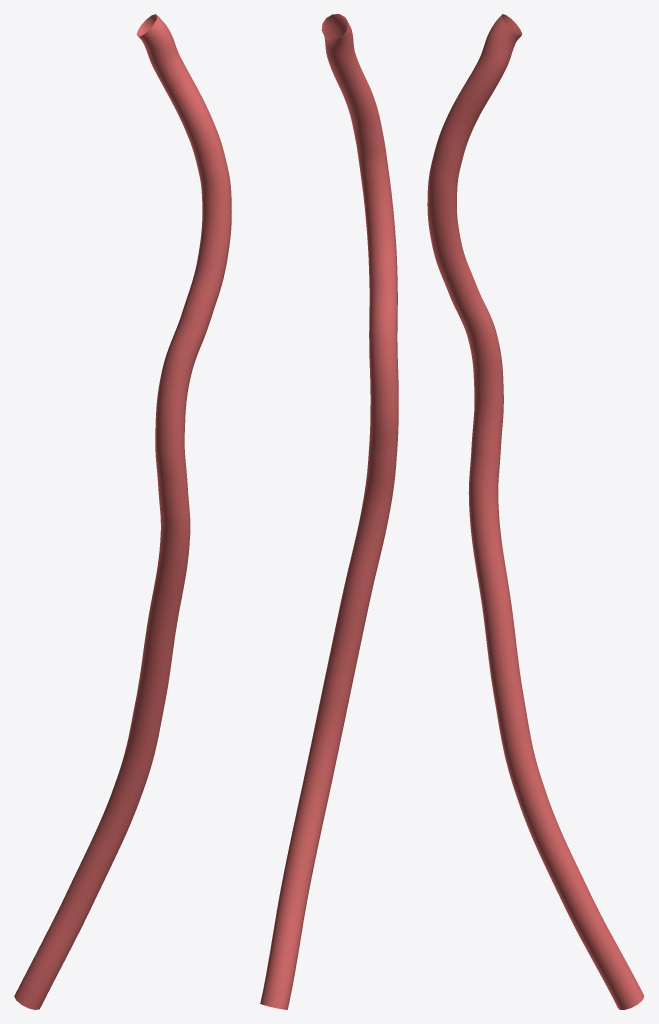
File: Femoral_artery.r_BezierCurve.175.glb
3 renders of one model, left to right at view 1: azimuth 90°, elevation 25°; view 2: azimuth 150°, elevation 25°; view 3: azimuth 270°, elevation 25°, orthographic. The views are drawn at different scales.
Parts seen in each view (by area): view 1: Femoral_artery.r_BezierCurve.175; view 2: Femoral_artery.r_BezierCurve.175; view 3: Femoral_artery.r_BezierCurve.175.
Part boxes in pixels (x1,y1,x2,y2): Femoral_artery.r_BezierCurve.175: (14, 14, 231, 1009); Femoral_artery.r_BezierCurve.175: (260, 14, 398, 1009); Femoral_artery.r_BezierCurve.175: (427, 14, 644, 1009).
Size of the model in its own units: 0.027 by 0.3456 by 0.0687.
